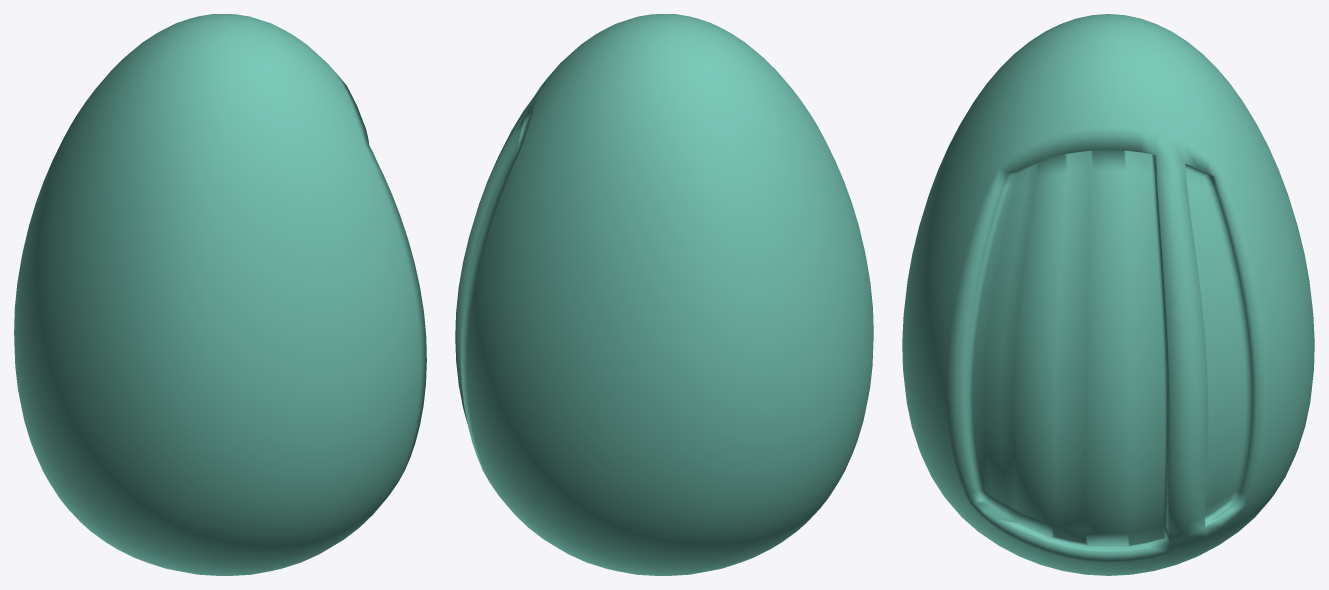
Rendered from Slime Egg  6.fbx.
3 views of the same model, side by side, from view 1: azimuth 30°, elevation 25°; view 2: azimuth 150°, elevation 25°; view 3: azimuth 270°, elevation 25° (orthographic).
Parts seen in each view (by area): view 1: Slime Egg 1.006; view 2: Slime Egg 1.006; view 3: Slime Egg 1.006.
Part boxes in pixels (box(x1,y1,x2,y2)): Slime Egg 1.006: box(14, 14, 426, 575); Slime Egg 1.006: box(455, 14, 873, 575); Slime Egg 1.006: box(902, 14, 1314, 575).
Size of the model in its own units: 251 by 362 by 256.
